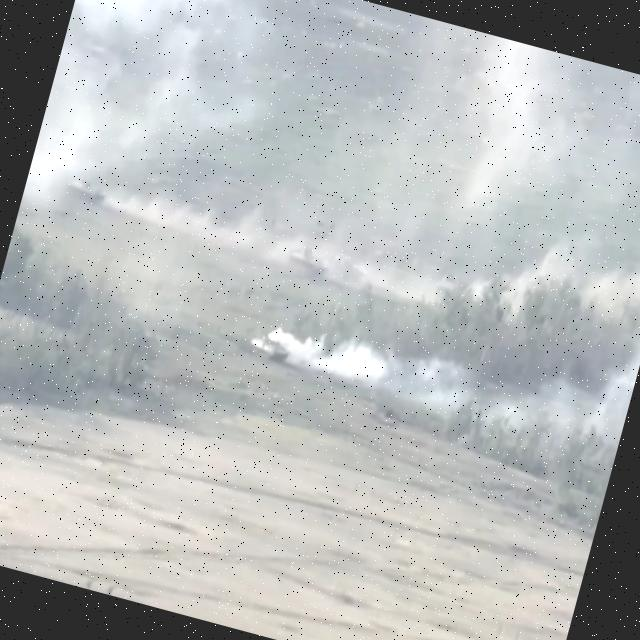AIFV: (281, 239, 335, 289), (243, 329, 295, 375), (62, 170, 114, 211)
